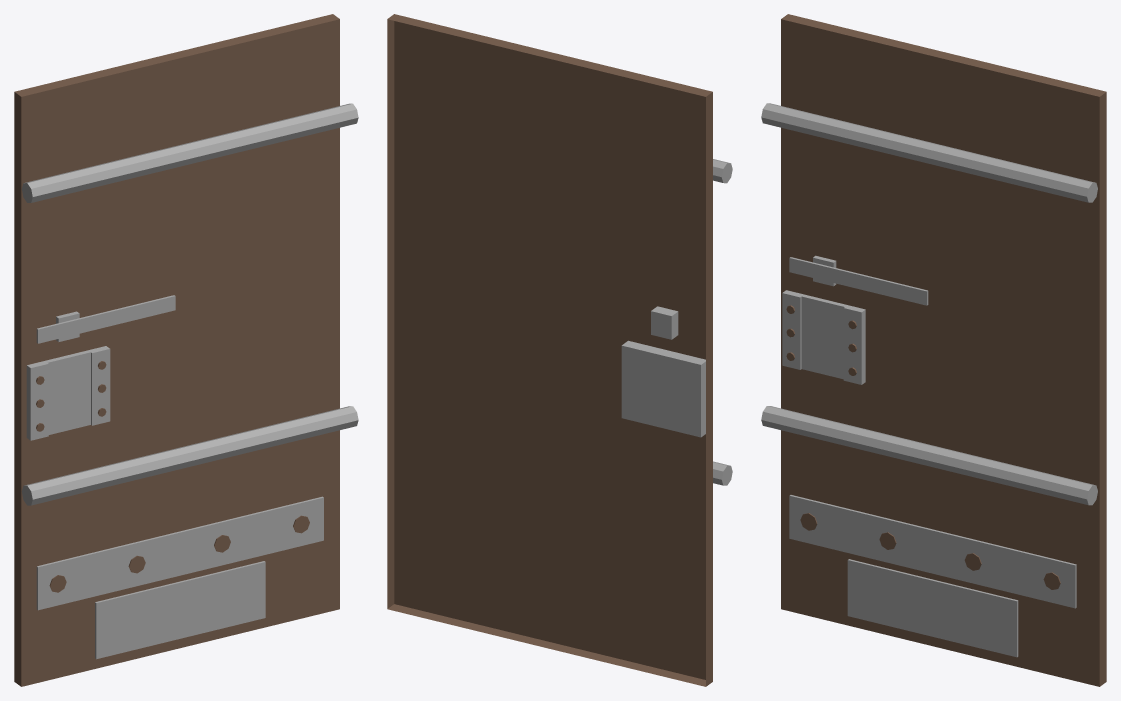
Rendered from PortaCelasInacessíveis.fbx.
3 views of the same model, side by side, from view 1: azimuth 30°, elevation 25°; view 2: azimuth 150°, elevation 25°; view 3: azimuth 330°, elevation 25° (orthographic).
Visible parts, largest first — view 1: PortaCela; view 2: PortaCela; view 3: PortaCela.
Boxes of the visible parts, x1,y1,x2,y2 form: PortaCela: (14, 14, 358, 686); PortaCela: (387, 14, 732, 686); PortaCela: (761, 14, 1106, 686).
Size of the model in its own units: 133 by 230 by 16.01.
